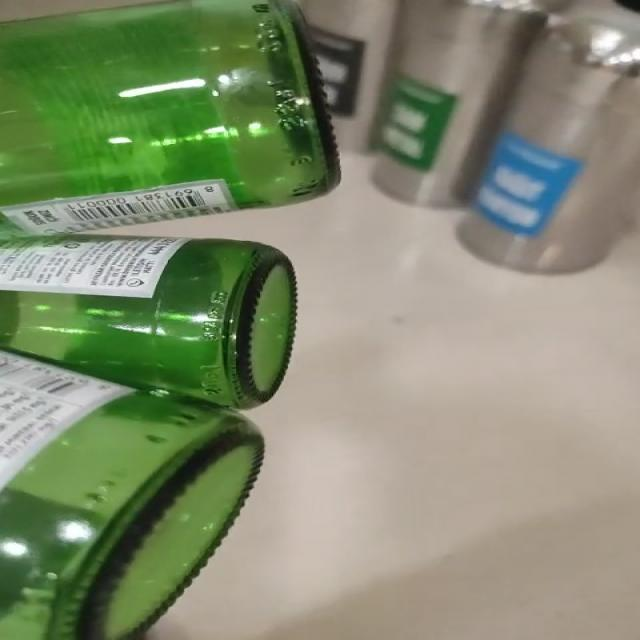glass: (1, 0, 339, 640)
